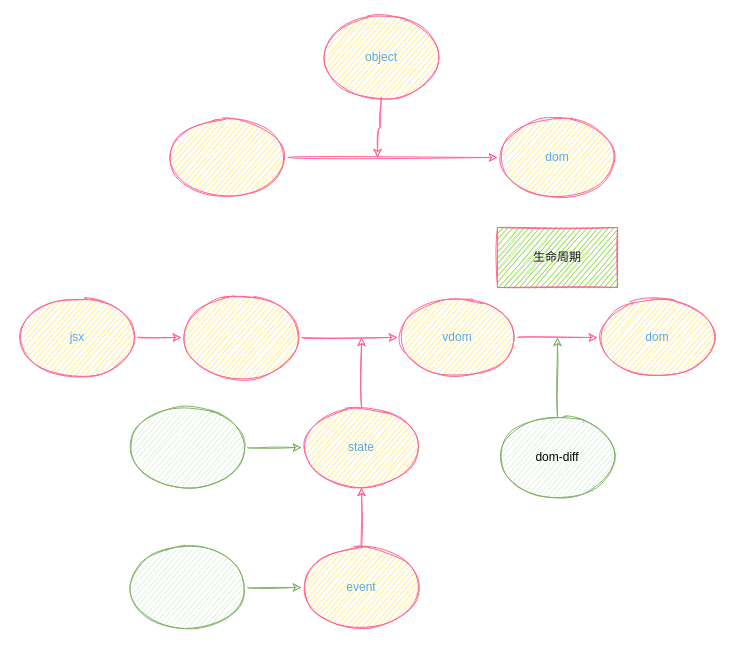
Some shapes in this 735 by 645 pixel diagram are drawn without their labels. Here are the shapes that lost their labels. From the top down, the centre of each, then its label:
At pixel 227 157: "template".
At pixel 241 337: "fn".
At pixel 187 447: "批量更新".
At pixel 187 587: "合成事件".
